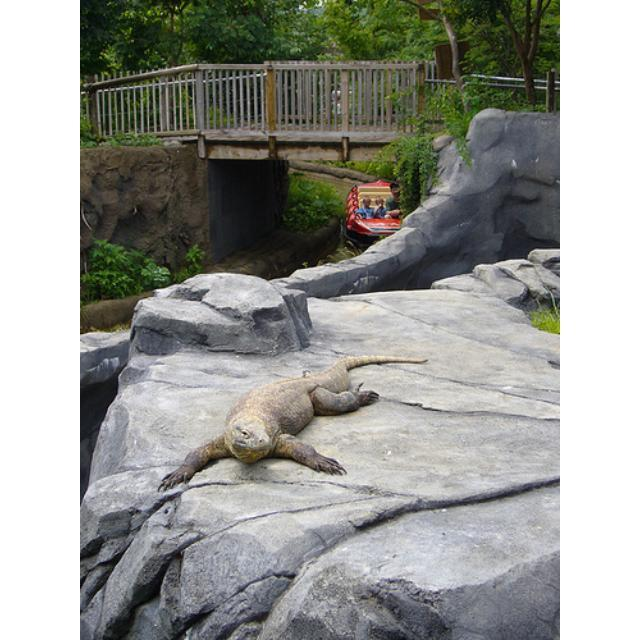KomodoDragon: (159, 353, 426, 491)
